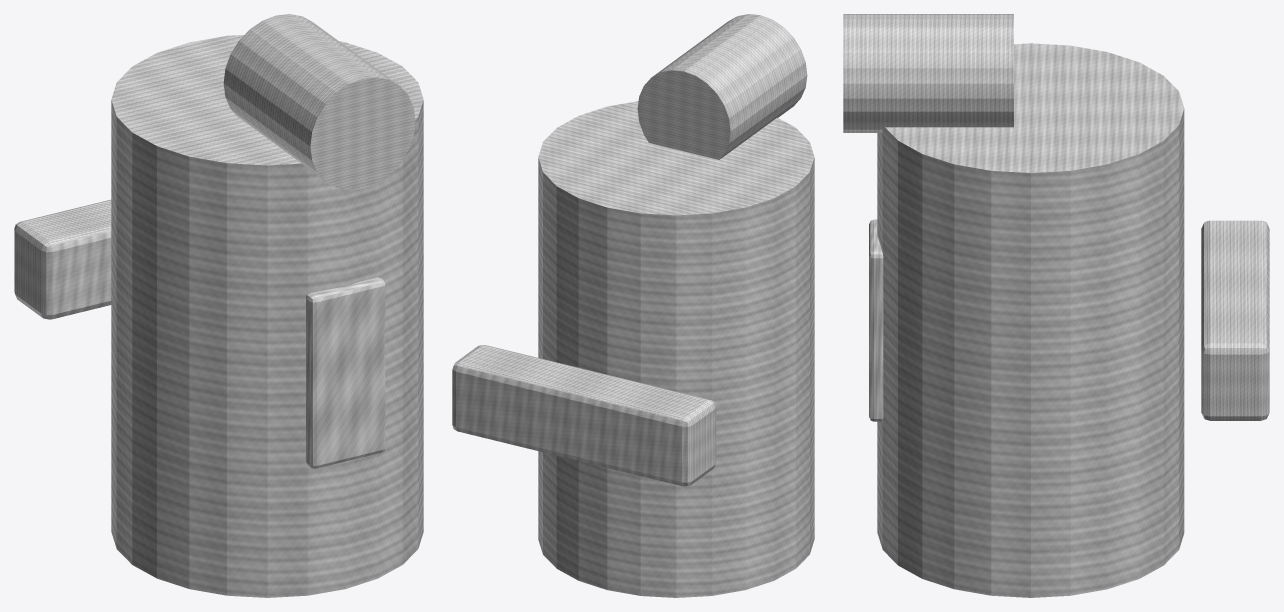
The model's file is consumable-medicinal-inhaler_variant_d.glb.
The picture shows the model from 3 angles, left to right: view 1: azimuth 30°, elevation 25°; view 2: azimuth 150°, elevation 25°; view 3: azimuth 270°, elevation 25°; orthographic projection. The views are drawn at different scales.
Visible parts, largest first — view 1: Consumable canister, Mouthpiece.003, Dose window.003, Variant modular rail; view 2: Consumable canister, Variant modular rail, Mouthpiece.003; view 3: Consumable canister, Mouthpiece.003, Variant modular rail, Dose window.003.
Boxes of the visible parts, x1,y1,x2,y2 form: Consumable canister: (111,34,423,597); Mouthpiece.003: (223,14,415,190); Dose window.003: (306,277,385,468); Variant modular rail: (14,199,111,319); Consumable canister: (538,101,814,597); Variant modular rail: (452,345,716,486); Mouthpiece.003: (637,14,807,159); Consumable canister: (877,43,1184,597); Mouthpiece.003: (843,14,1013,132); Variant modular rail: (1201,220,1269,420); Dose window.003: (869,219,883,421).
Size of what is drawn, in the model's own units: 0.36 by 0.665 by 0.5.
4 materials, 4 textured.
